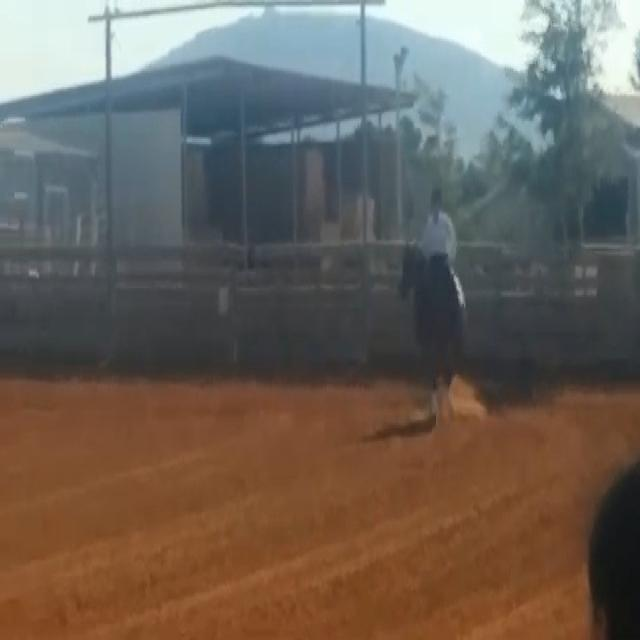horse: (396, 234, 470, 428)
